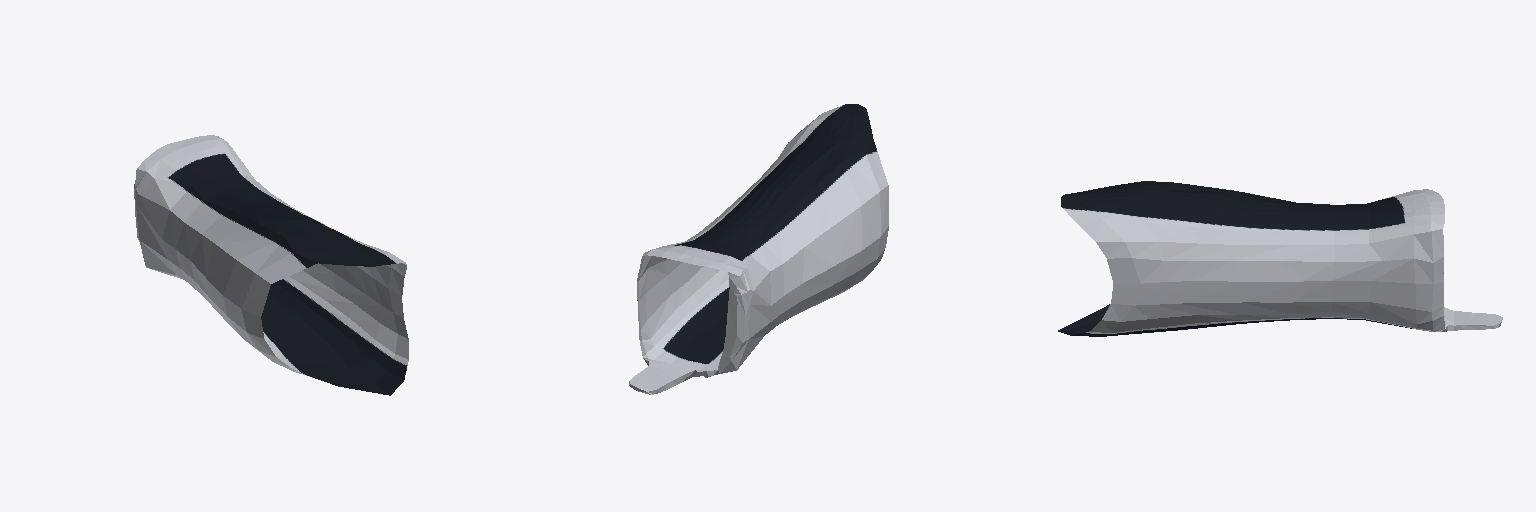
3 views of the same model, side by side, from view 1: azimuth 30°, elevation 25°; view 2: azimuth 150°, elevation 25°; view 3: azimuth 270°, elevation 25° (orthographic).
Visible parts, largest first — view 1: R_KNEE_P-458-FACES; view 2: R_KNEE_P-458-FACES; view 3: R_KNEE_P-458-FACES.
Boxes of the visible parts, x1,y1,x2,y2 form: R_KNEE_P-458-FACES: [134, 135, 408, 395]; R_KNEE_P-458-FACES: [629, 104, 888, 394]; R_KNEE_P-458-FACES: [1058, 181, 1502, 336].
Size of the model in its own units: 0.1075 by 0.1074 by 0.3259.
Materials: 1 (1 with a texture image).